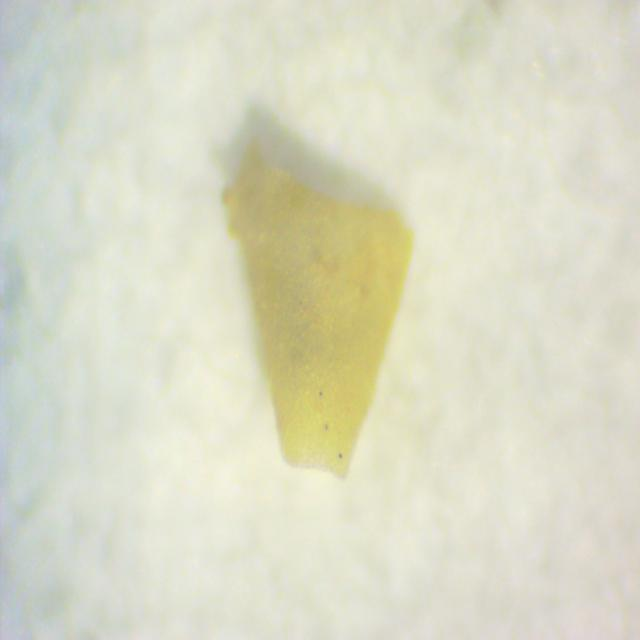microplastic: (226, 137, 416, 488)
